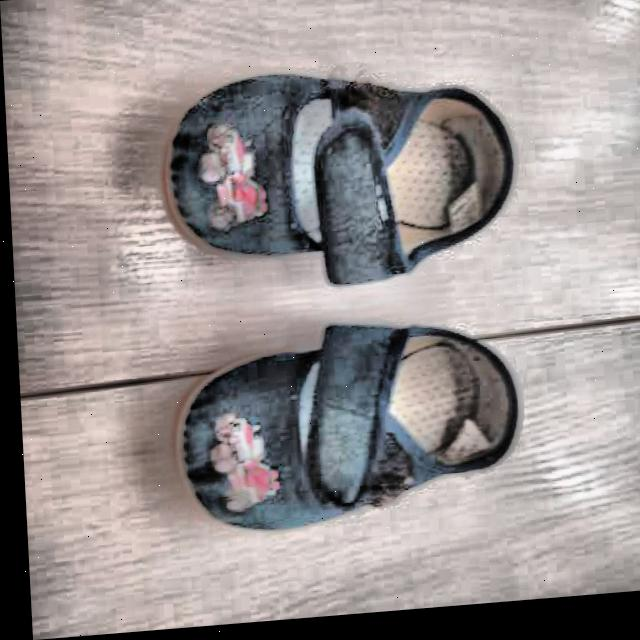shoes: (127, 34, 576, 561)
